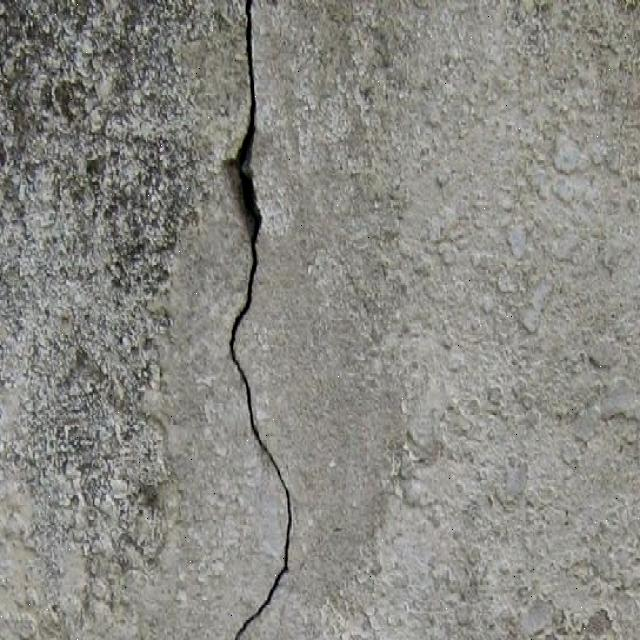crack: (221, 0, 294, 639), (231, 6, 265, 249)
